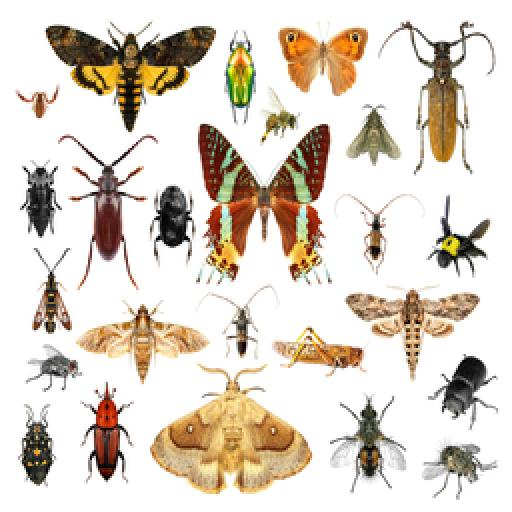insects: (150, 352, 314, 498), (196, 122, 332, 288), (44, 24, 216, 136), (380, 18, 496, 176), (58, 134, 158, 286), (346, 290, 480, 382), (76, 300, 210, 384), (330, 394, 410, 492), (334, 190, 418, 278), (276, 26, 368, 100), (78, 380, 136, 484), (192, 284, 270, 356), (422, 196, 492, 276), (428, 354, 498, 432), (422, 436, 498, 500), (274, 322, 366, 372), (30, 246, 76, 338), (344, 100, 404, 168), (150, 184, 194, 270), (20, 164, 64, 242), (224, 30, 258, 128), (22, 346, 86, 396), (20, 404, 58, 488), (260, 88, 300, 144), (16, 86, 60, 120)
